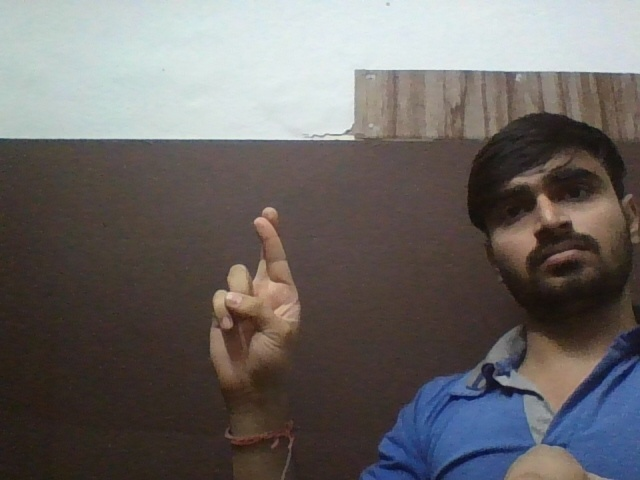R: (203, 196, 307, 406)
